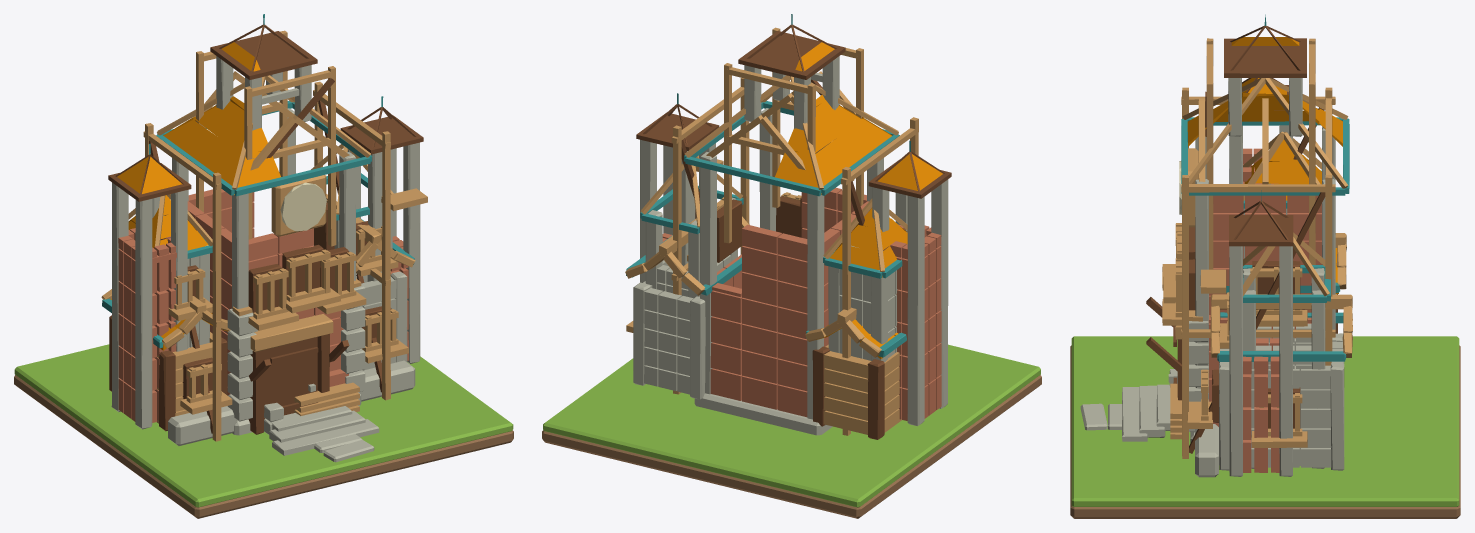
Rendered from town_hall_l09_construction_LOD1.glb.
The picture shows the model from 3 angles, left to right: view 1: azimuth 30°, elevation 25°; view 2: azimuth 150°, elevation 25°; view 3: azimuth 270°, elevation 25°; orthographic projection. The views are drawn at different scales.
Visible parts, largest first — view 1: town_hall_l09_construction_foundation.001, town_hall_l09_construction_grass_tile.001, town_hall_l09_construction_earth_tile.001, town_hall_l09_construction_path_stone.005; view 2: town_hall_l09_construction_foundation.001, town_hall_l09_construction_grass_tile.001, town_hall_l09_construction_earth_tile.001; view 3: town_hall_l09_construction_foundation.001, town_hall_l09_construction_grass_tile.001, town_hall_l09_construction_earth_tile.001, town_hall_l09_construction_path_stone.005.
Part boxes in pixels (x1=…): town_hall_l09_construction_foundation.001: x1=101, y1=14, x2=427, y2=455; town_hall_l09_construction_grass_tile.001: x1=14, y1=344, x2=513, y2=507; town_hall_l09_construction_earth_tile.001: x1=14, y1=375, x2=513, y2=518; town_hall_l09_construction_path_stone.005: x1=323, y1=439, x2=374, y2=462; town_hall_l09_construction_foundation.001: x1=625, y1=14, x2=951, y2=439; town_hall_l09_construction_grass_tile.001: x1=543, y1=344, x2=1040, y2=507; town_hall_l09_construction_earth_tile.001: x1=542, y1=375, x2=1041, y2=518; town_hall_l09_construction_foundation.001: x1=1122, y1=14, x2=1352, y2=477; town_hall_l09_construction_grass_tile.001: x1=1071, y1=336, x2=1459, y2=506; town_hall_l09_construction_earth_tile.001: x1=1070, y1=345, x2=1460, y2=518; town_hall_l09_construction_path_stone.005: x1=1080, y1=403, x2=1107, y2=430.
Size of the model in its own units: 3.6 by 4.32 by 3.6.
